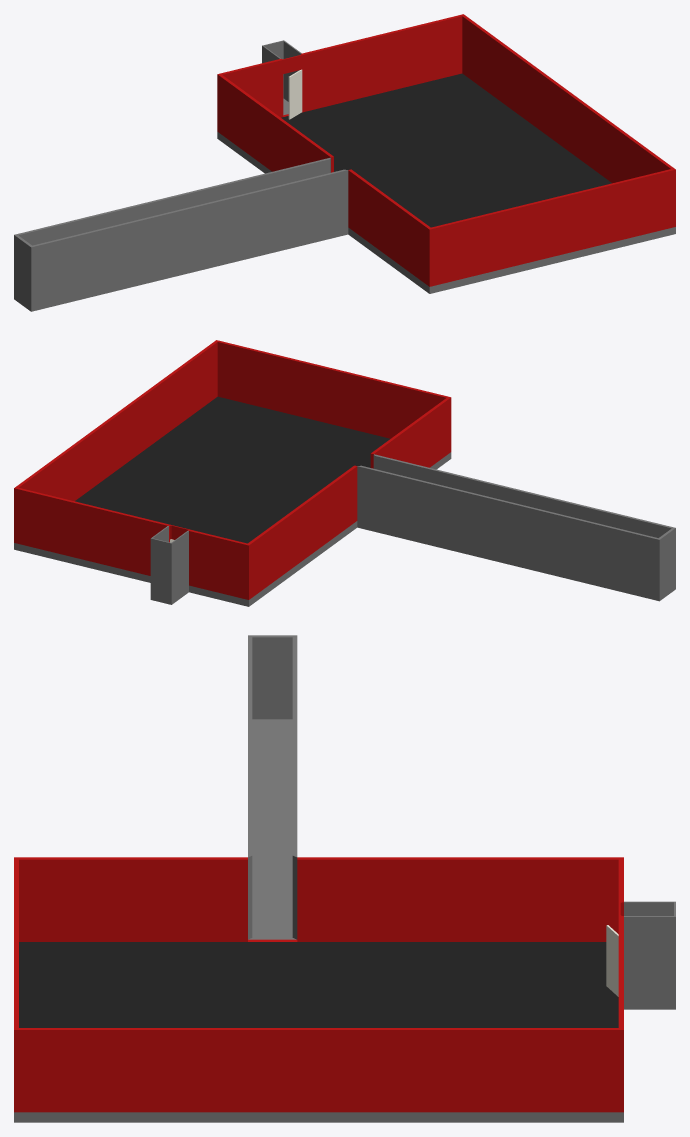
Rendered from Mockup_room_unity_v3 1.fbx.
The picture shows the model from 3 angles, top to bottom: view 1: azimuth 30°, elevation 25°; view 2: azimuth 150°, elevation 25°; view 3: azimuth 270°, elevation 25°; orthographic projection. The views are drawn at different scales.
Visible parts, largest first — view 1: Box001, Box002; view 2: Box001; view 3: Box001, Box002.
Part boxes in pixels (bbox=[...]): Box001: bbox=[14, 14, 675, 311]; Box002: bbox=[288, 69, 302, 119]; Box001: bbox=[14, 340, 675, 606]; Box001: bbox=[14, 635, 675, 1122]; Box002: bbox=[606, 925, 618, 996].
Size of the model in its own units: 782 by 85.49 by 554.
